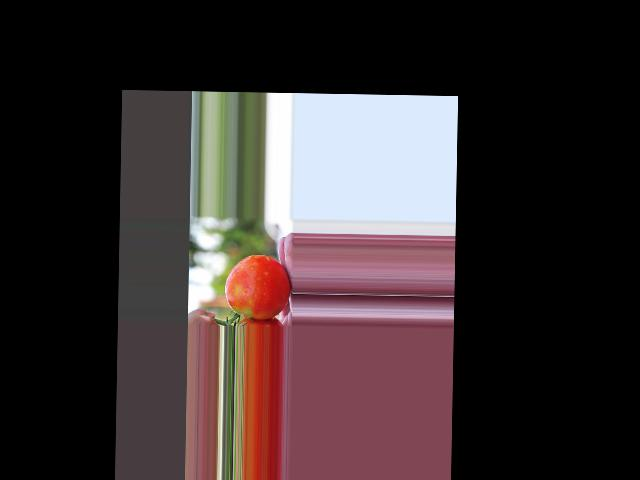tomato: (224, 254, 290, 319)
